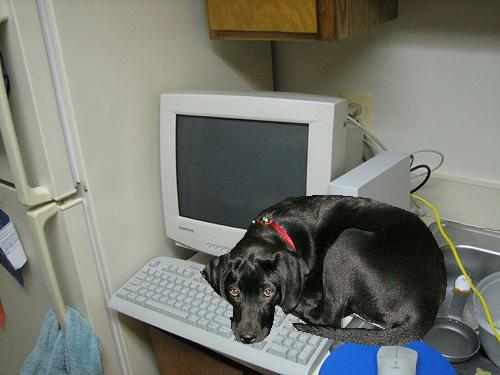tampered: (201, 196, 447, 346)
